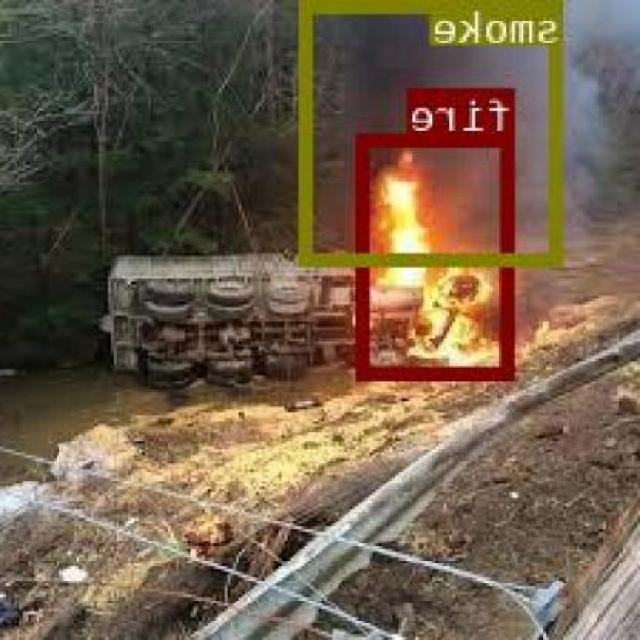Fire: (361, 132, 516, 378)
Smoke: (303, 0, 565, 262)
